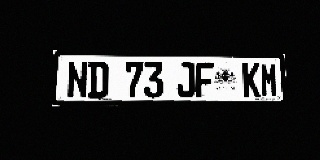3: (144, 62, 163, 98)
7: (124, 62, 143, 98)
D: (88, 61, 108, 98)
F: (195, 62, 214, 97)
J: (177, 62, 195, 98)
K: (242, 63, 260, 97)
M: (260, 63, 278, 97)
N: (67, 61, 88, 98)
